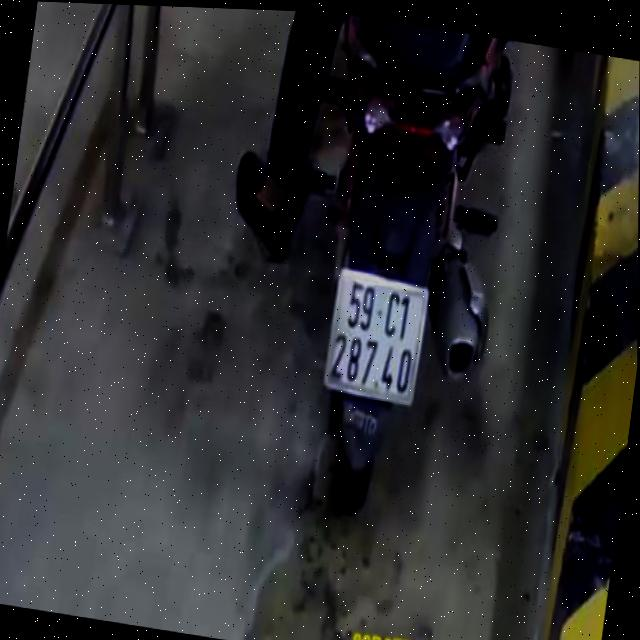motorcycle: (251, 9, 531, 545)
plate: (316, 260, 433, 411)
